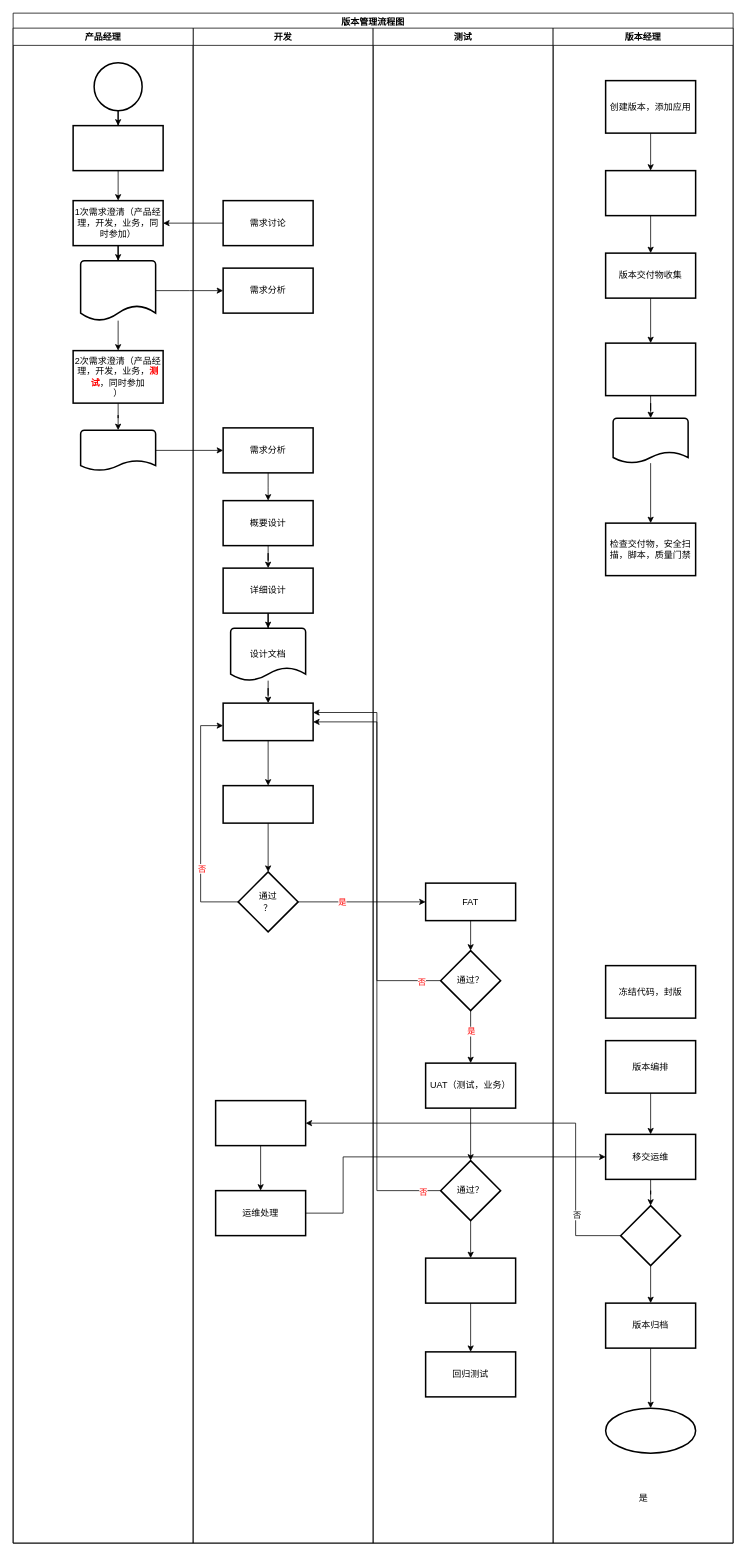
Image size: 746x1556. Some labels were removed from this diagram. Here are the shapes that lost their labels. From the top down, the centre of each, then its label:
(x=117, y=86): 开始
(x=118, y=147): 对接业务，需求讨论
(x=650, y=193): 版本文档收集
(x=118, y=290): 需求文档v1
(x=650, y=369): 版本评审（项目经理开发，测试参加）
(x=118, y=450): 需求文档v2
(x=650, y=440): 交付物文档
(x=268, y=721): 开发编码
(x=268, y=804): 自测通过，提测
(x=260, y=1123): 开发处理
(x=650, y=1235): 运维正常发布？
(x=470, y=1280): 出具UAT报告
(x=650, y=1430): 结束
